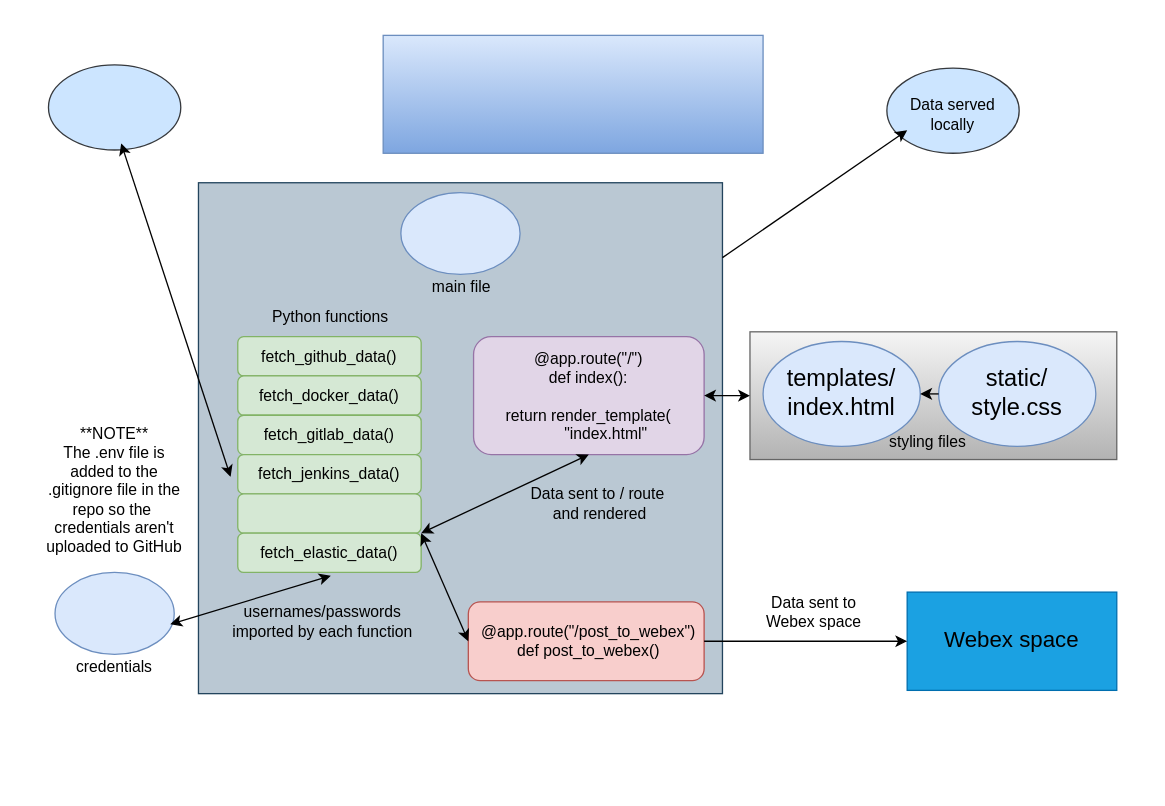
The diagram is 1165 pixels wide and 806 high, and some of its shapes have lost their labels. The box of each missing label's shape, as (x1, y1, x2, y2) in pixels:
.env: (54, 571, 174, 654)
app.py: (400, 191, 520, 274)
DIY DevOps Dashboard Flask application: (382, 34, 763, 153)
fetch_terraform_data(): (236, 493, 421, 533)
Various API data fetched: (47, 64, 181, 150)
